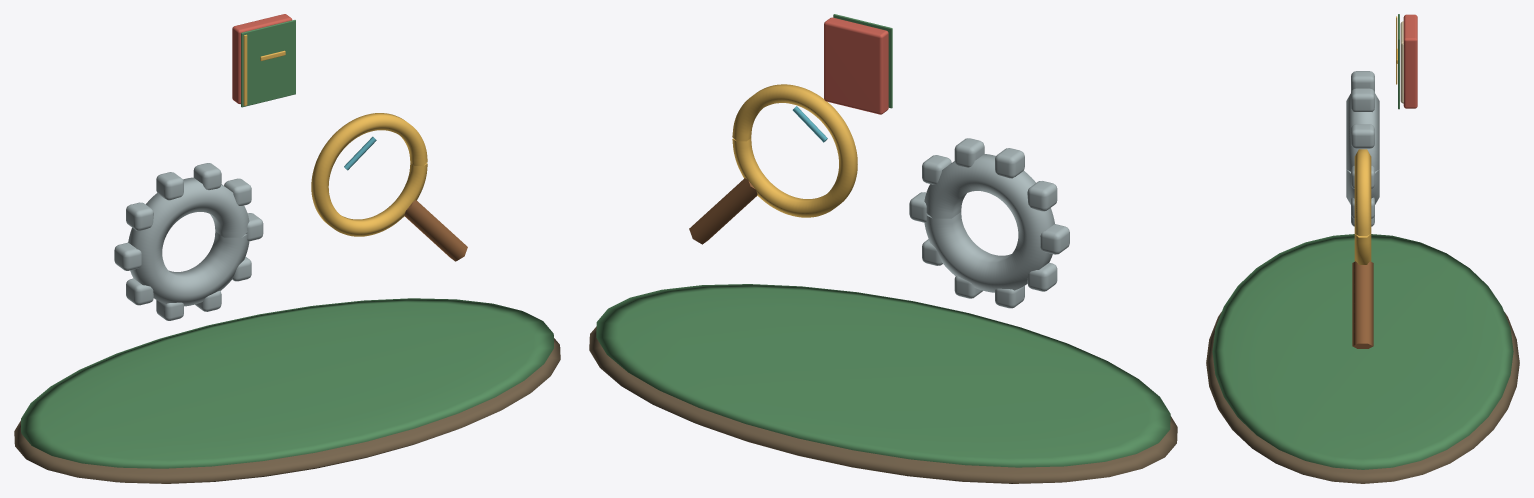
File: complete-third-grinding-investigation.glb
The picture shows the model from 3 angles, left to right: view 1: azimuth 30°, elevation 25°; view 2: azimuth 150°, elevation 25°; view 3: azimuth 270°, elevation 25°; orthographic projection. The views are drawn at different scales.
Parts seen in each view (by area): view 1: complete-third-grinding-investigation_surface_01, complete-third-grinding-investigation_surface_02, complete-third-grinding-investigation_surface_00, complete-third-grinding-investigation_surface_03, complete-third-grinding-investigation_surface_04, complete-third-grinding-investigation_surface_06; view 2: complete-third-grinding-investigation_surface_01, complete-third-grinding-investigation_surface_02, complete-third-grinding-investigation_surface_00, complete-third-grinding-investigation_surface_03, complete-third-grinding-investigation_surface_06, complete-third-grinding-investigation_surface_04; view 3: complete-third-grinding-investigation_surface_01, complete-third-grinding-investigation_surface_00, complete-third-grinding-investigation_surface_02, complete-third-grinding-investigation_surface_03, complete-third-grinding-investigation_surface_04, complete-third-grinding-investigation_surface_06.
Boxes of the visible parts, x1,y1,x2,y2 form: complete-third-grinding-investigation_surface_01: (21, 20, 553, 468); complete-third-grinding-investigation_surface_02: (114, 163, 263, 320); complete-third-grinding-investigation_surface_00: (14, 338, 560, 483); complete-third-grinding-investigation_surface_03: (243, 34, 427, 236); complete-third-grinding-investigation_surface_04: (404, 200, 467, 261); complete-third-grinding-investigation_surface_06: (232, 14, 292, 104); complete-third-grinding-investigation_surface_01: (596, 14, 1170, 467); complete-third-grinding-investigation_surface_02: (909, 138, 1069, 308); complete-third-grinding-investigation_surface_00: (589, 326, 1177, 483); complete-third-grinding-investigation_surface_03: (732, 84, 857, 217); complete-third-grinding-investigation_surface_06: (824, 17, 888, 114); complete-third-grinding-investigation_surface_04: (689, 178, 757, 244); complete-third-grinding-investigation_surface_01: (1212, 14, 1513, 469); complete-third-grinding-investigation_surface_00: (1206, 312, 1519, 483); complete-third-grinding-investigation_surface_02: (1346, 71, 1379, 226); complete-third-grinding-investigation_surface_03: (1354, 16, 1397, 264); complete-third-grinding-investigation_surface_04: (1352, 261, 1373, 348); complete-third-grinding-investigation_surface_06: (1403, 14, 1417, 108).
Bounding box in the file's own units: 4.56 × 3.09 × 2.5.
